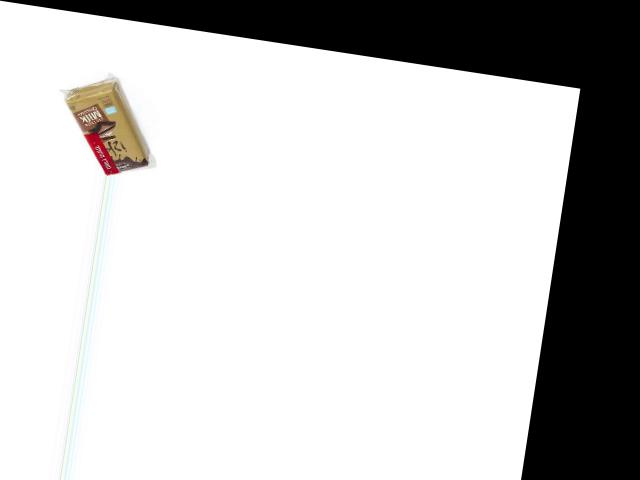chocolate: (43, 70, 162, 179)
